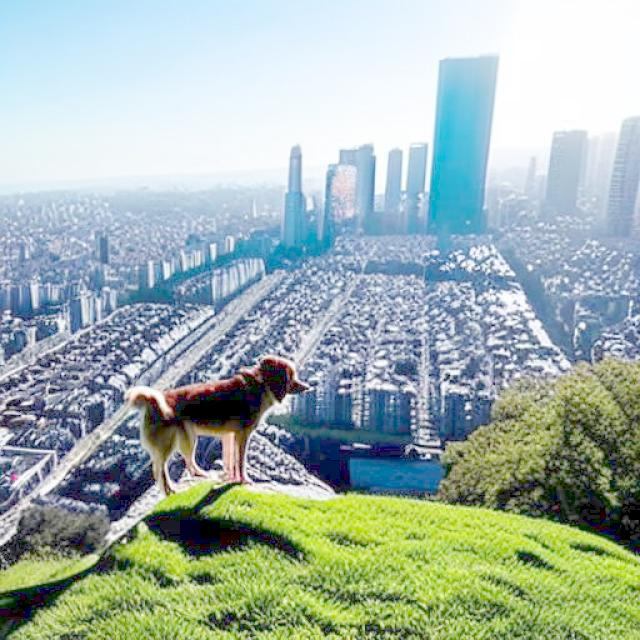Dog: (123, 355, 310, 499)
